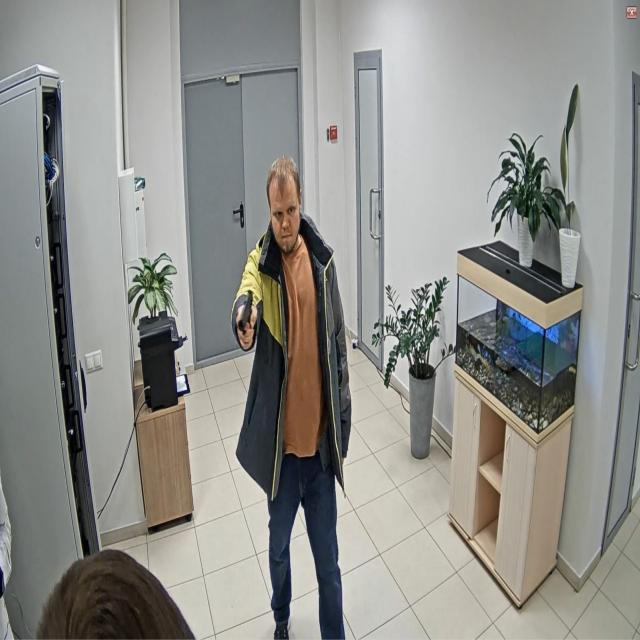-Gun: (238, 290, 253, 331)
